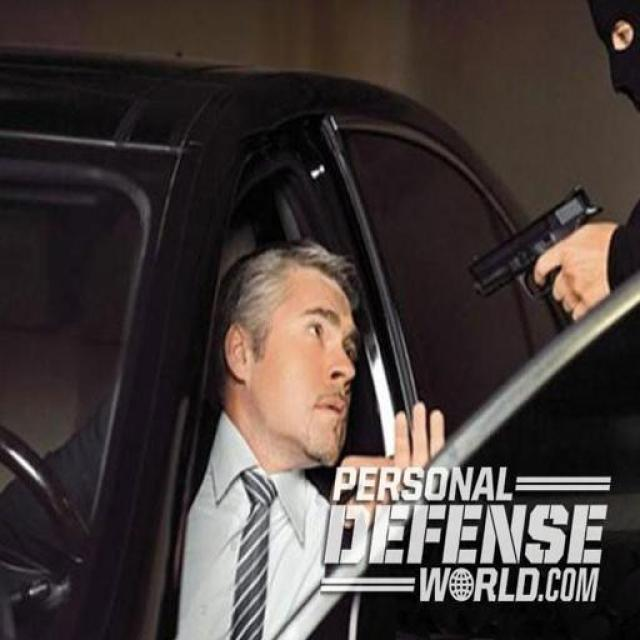pistol: (467, 176, 611, 314)
